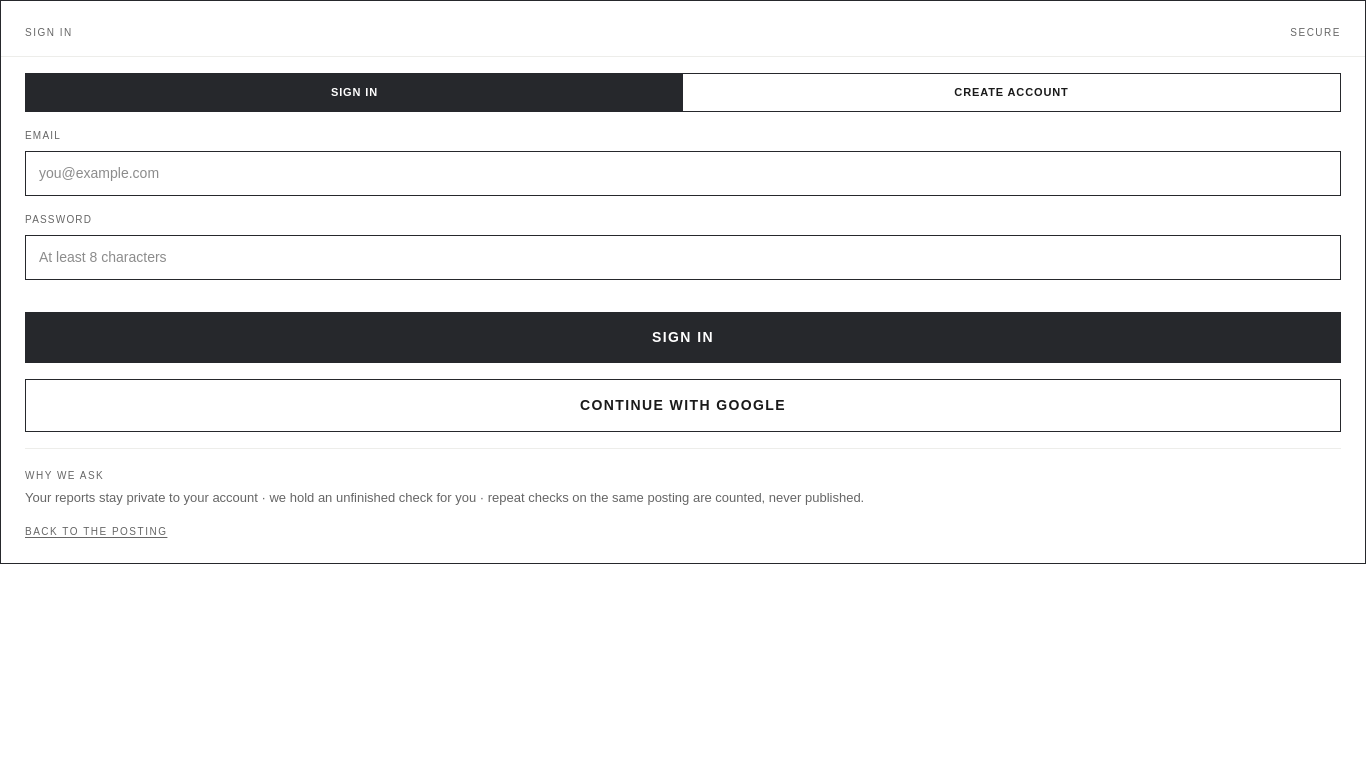
Test: AuthForm › drops the '…and run the check' copy when nothing is queued
The image size is (1366, 768).
Expected: the submit button reads "SIGN IN", [25, 312, 1341, 362]
Expected: the submit button does not show "run the check", [25, 312, 1341, 362]
Click the button "Create account" at (1012, 92), box [683, 74, 1340, 110]
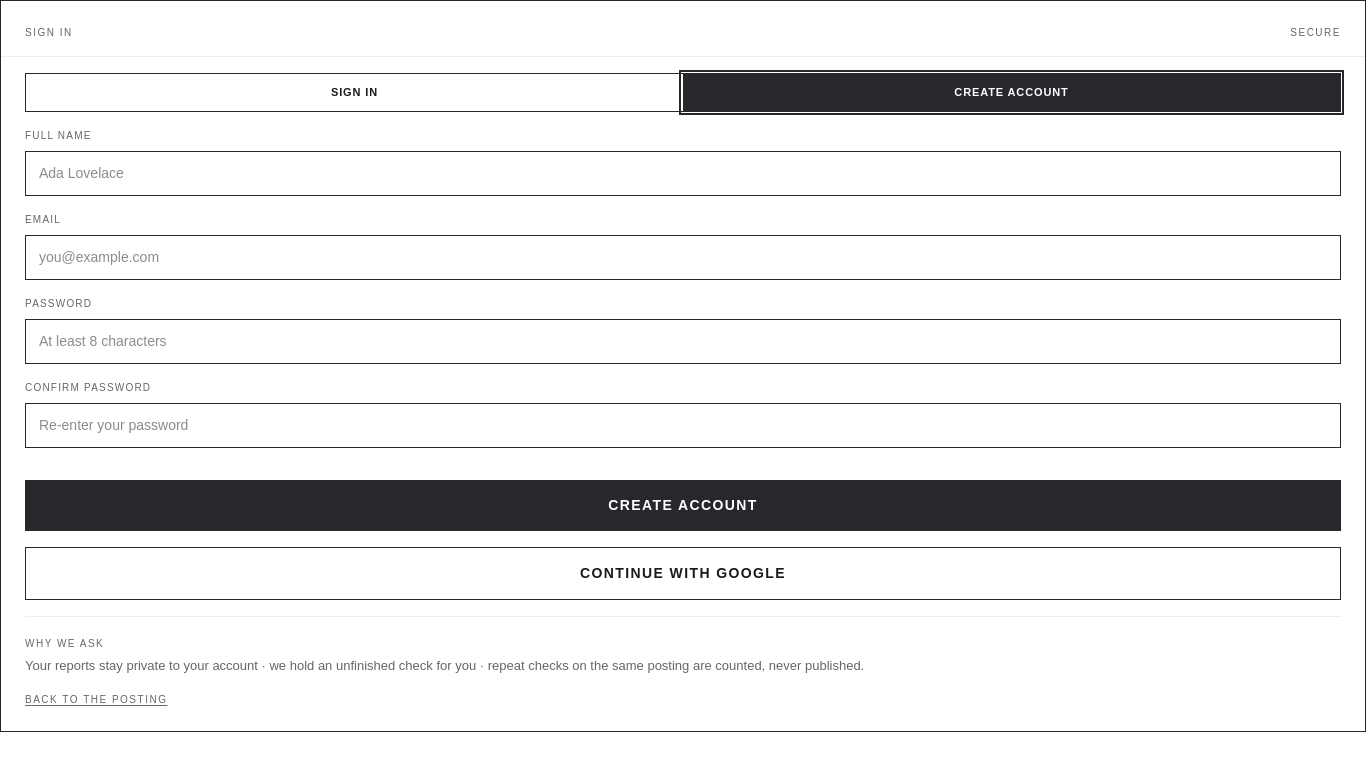
Expected: the submit button does not show "run the check", [25, 480, 1341, 530]
Result: the submit button reads "CREATE ACCOUNT" at [25, 480, 1341, 530]
